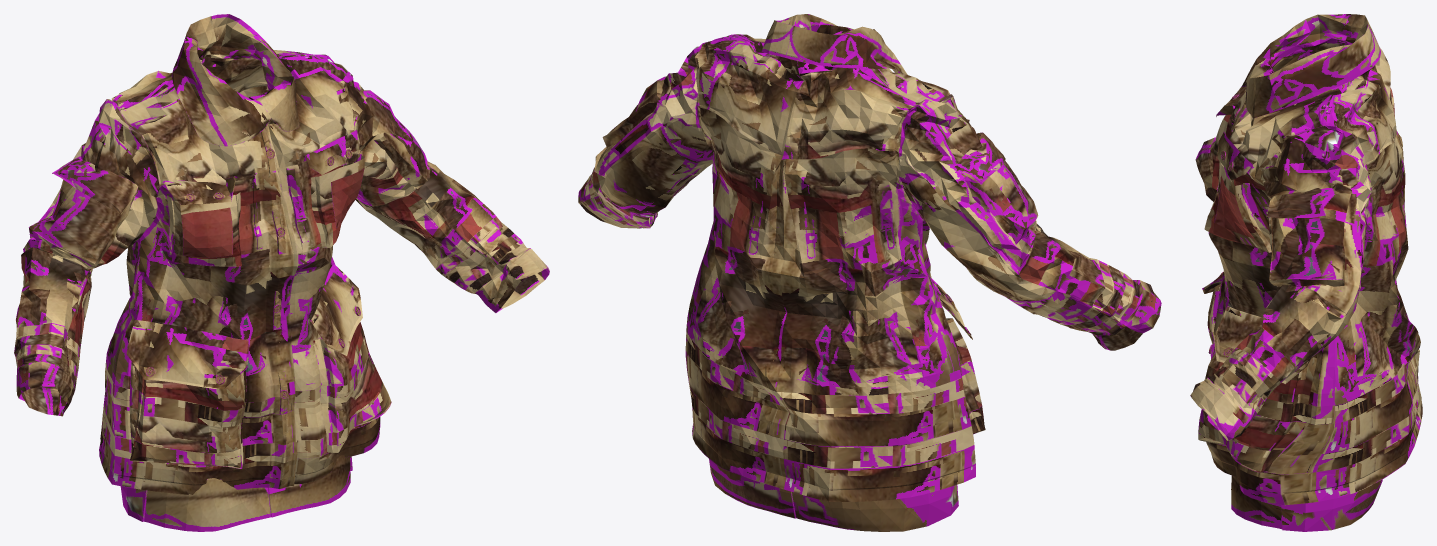
The picture shows the model from 3 angles, left to right: view 1: azimuth 30°, elevation 25°; view 2: azimuth 150°, elevation 25°; view 3: azimuth 270°, elevation 25°; orthographic projection. The views are drawn at different scales.
Bounding box in the file's own units: 1.13 × 0.9177 × 0.4204.
1 material, 1 textured.
